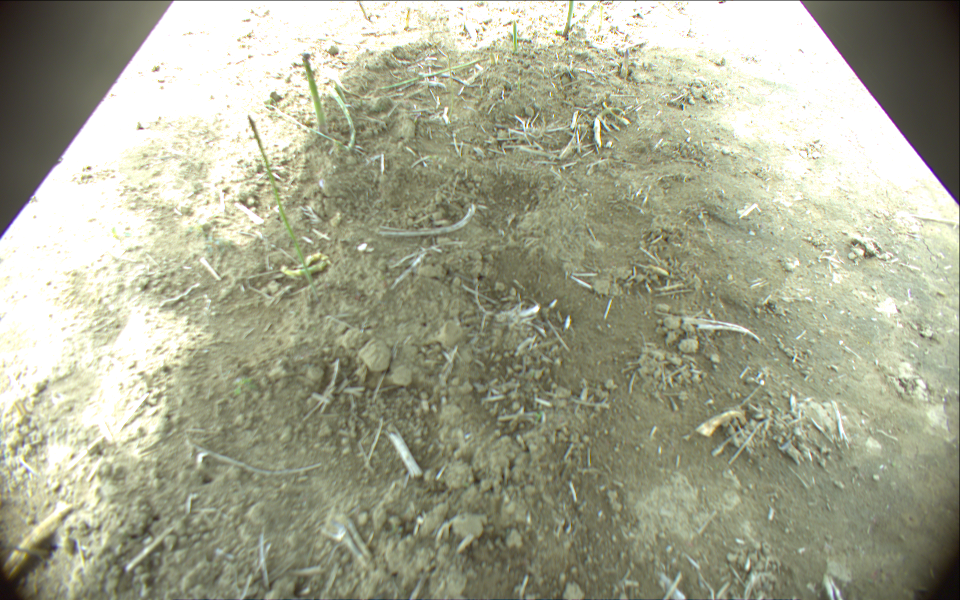aspa: (246, 115, 320, 303), (377, 58, 481, 88), (326, 84, 358, 152), (302, 51, 326, 129), (563, 1, 574, 37), (357, 1, 368, 19), (512, 21, 518, 51)
